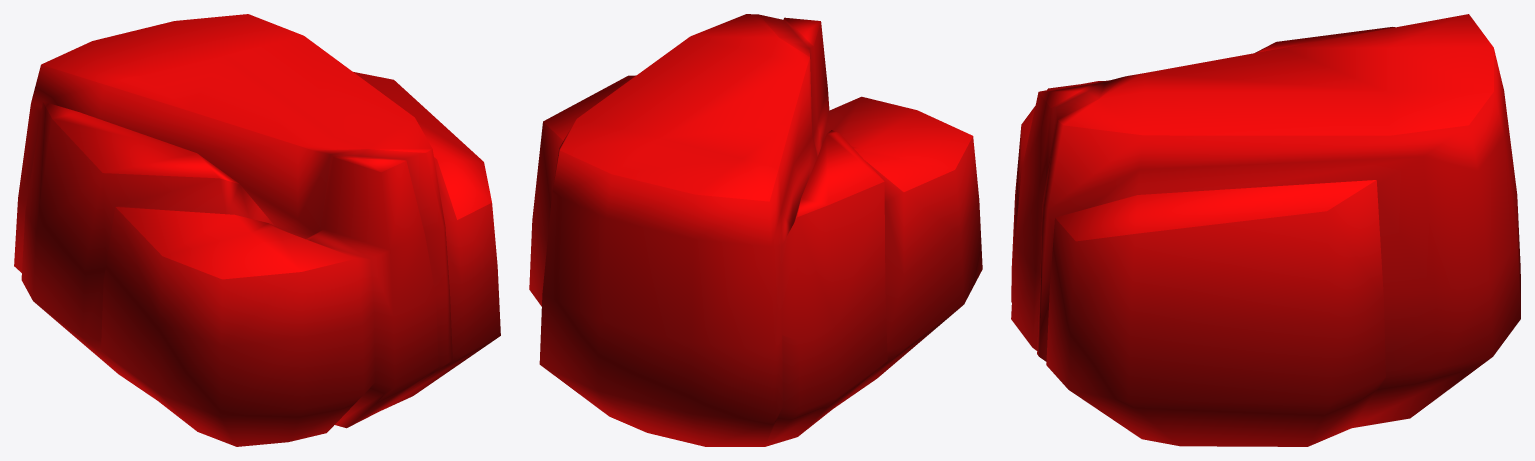
Rendered from geology-landforms-icefloe_v3.fbx.
3 renders of one model, left to right at view 1: azimuth 30°, elevation 25°; view 2: azimuth 150°, elevation 25°; view 3: azimuth 270°, elevation 25°, orthographic. The views are drawn at different scales.
Parts seen in each view (by area): view 1: IceFloe_v3; view 2: IceFloe_v3; view 3: IceFloe_v3.
Boxes of the visible parts, x1,y1,x2,y2 form: IceFloe_v3: (14, 14, 500, 446); IceFloe_v3: (529, 14, 982, 446); IceFloe_v3: (1011, 14, 1520, 446).
Size of the model in its own units: 2.07 by 1.63 by 2.46.
